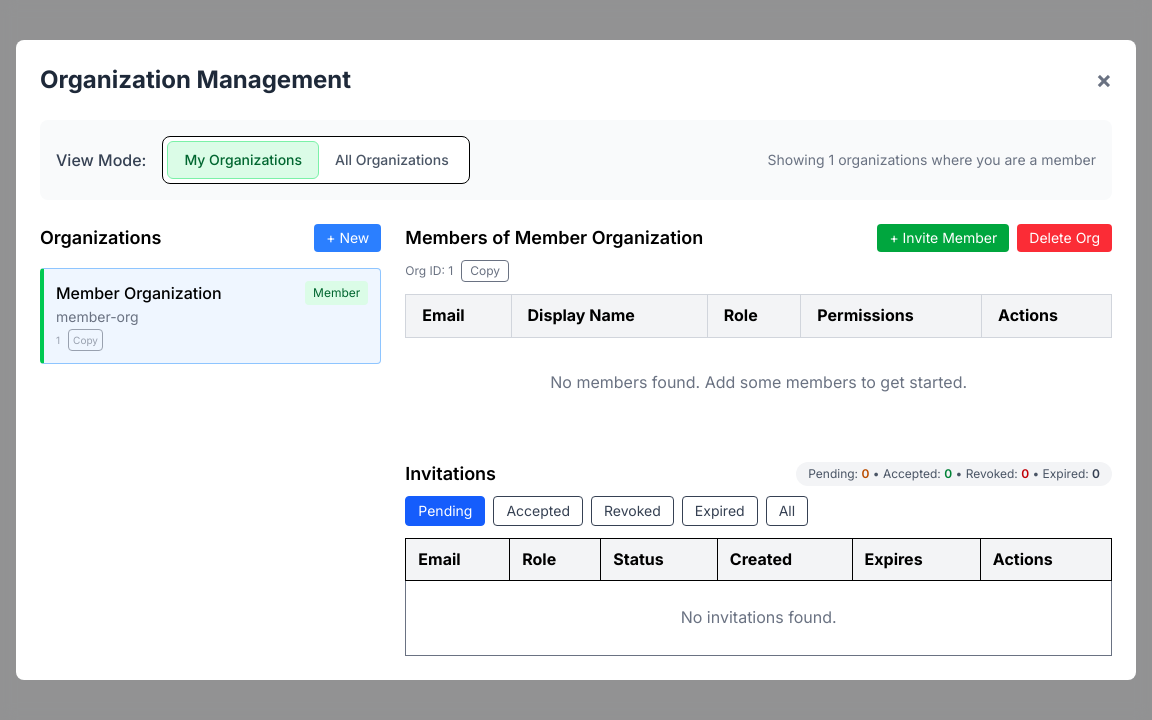
Test: OrganizationManagement › View Mode Toggle › switches to all organizations view after confirmation
The image size is (1152, 720).
Expected: the heading "Organization Management" is shown, [40, 64, 351, 96]
Note: Click "All Organizations" button
Click the button "All Organizations": (392, 160) [319, 141, 465, 179]
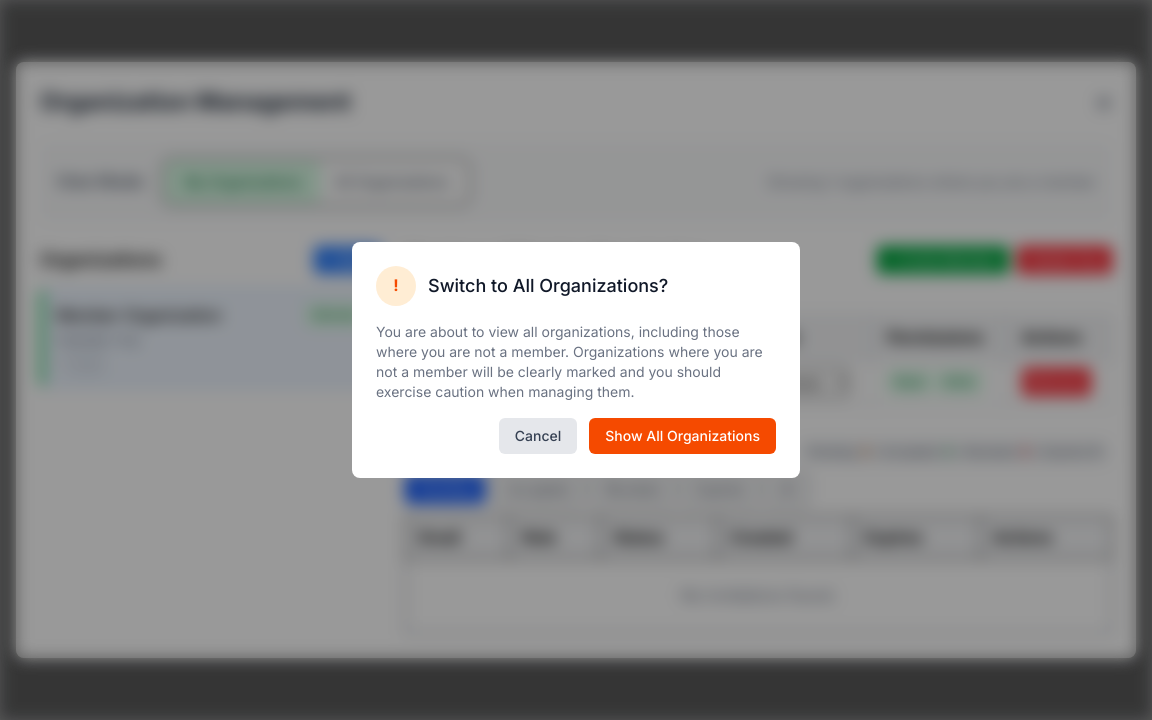
Note: Confirm the switch
Click the button "Show All Organizations": (683, 436) [589, 418, 776, 454]
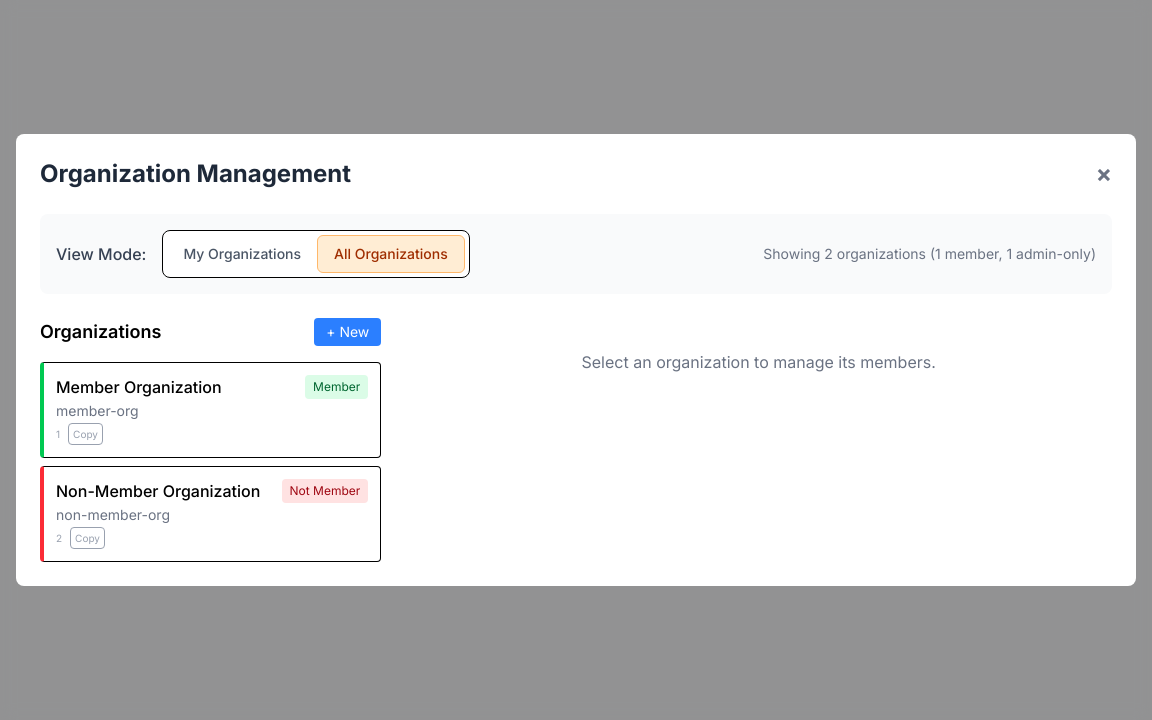
Expected: the text "Member Organization" is shown, [56, 375, 222, 401]
Expected: the text "Showing 2 organizations (1 member, 1 admin-only)" is shown, [763, 244, 1096, 264]
Expected: the text "Non-Member Organization" is shown, [56, 479, 260, 505]
